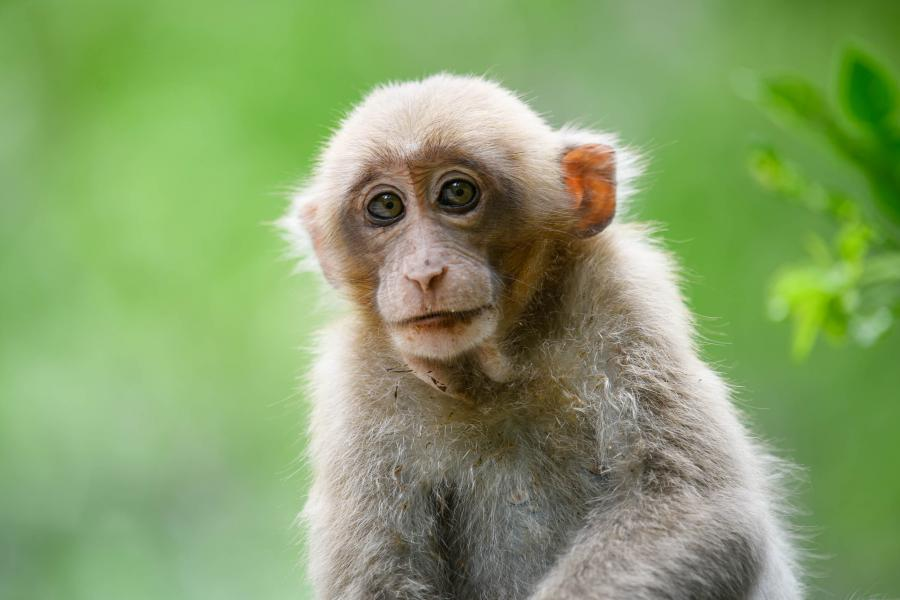monkey: (261, 63, 833, 600)
